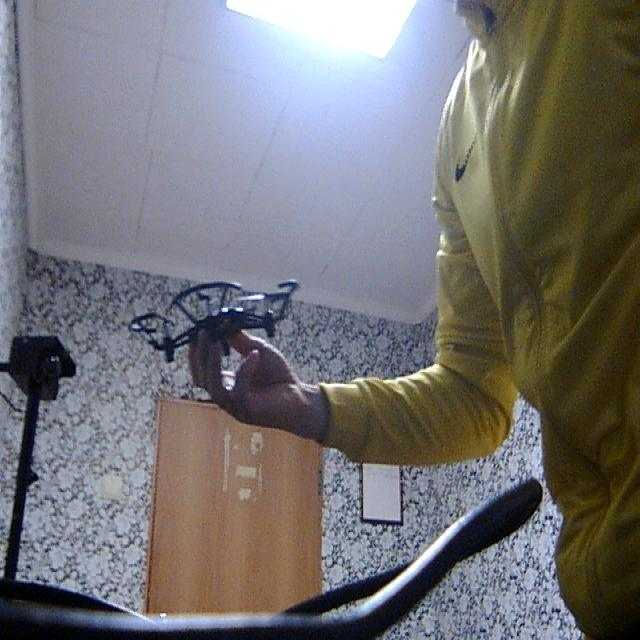drone: (114, 268, 307, 350)
